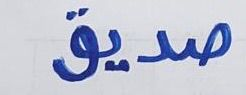lam: (135, 28, 178, 71)
qaf: (50, 5, 99, 83)
sad: (180, 16, 232, 69)
yeh: (100, 27, 132, 74)
